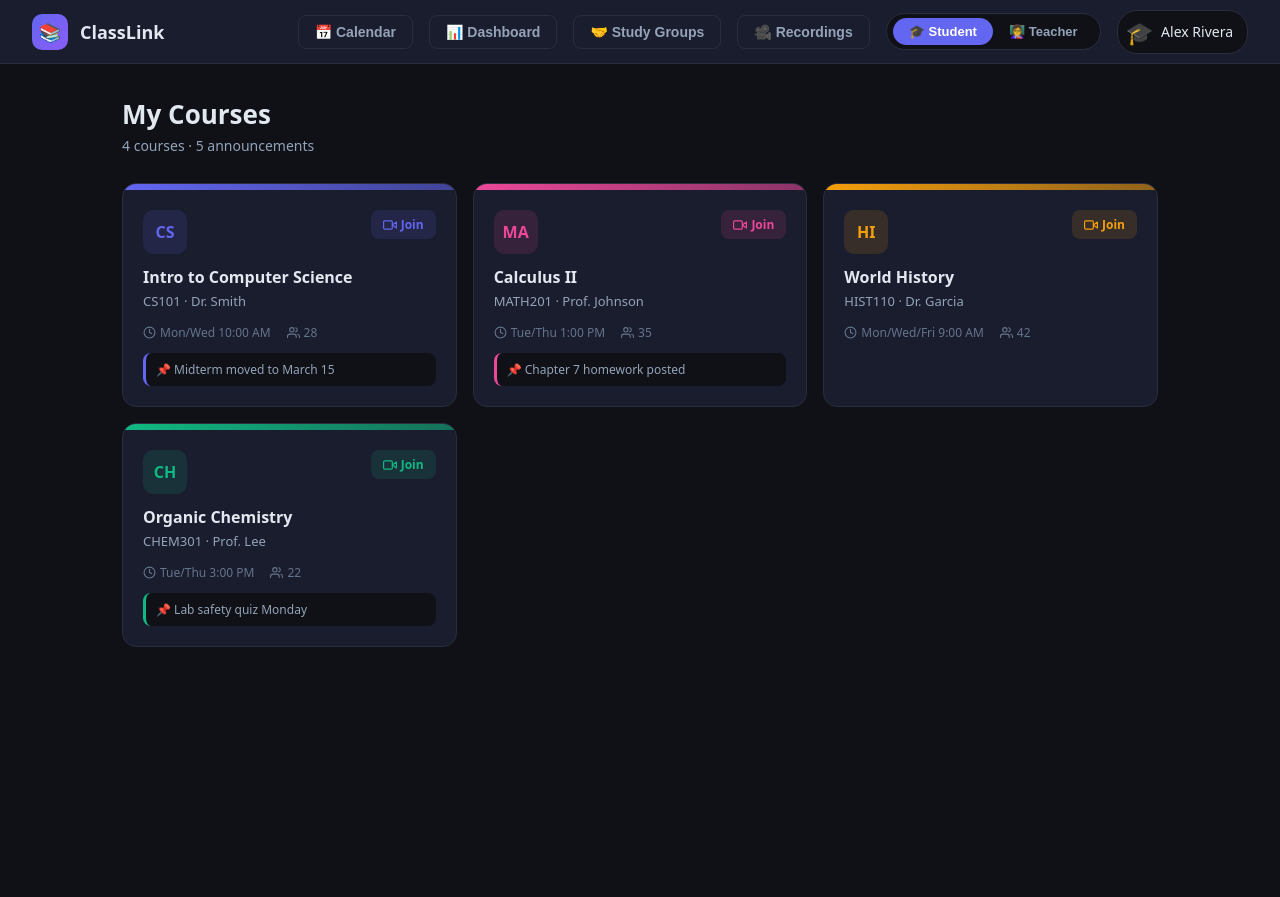
Test: App component › teacher can switch role and add a new course
# Switch to teacher role
Click the button "👩‍🏫 Teacher" at (1043, 32), box [993,18,1094,45]
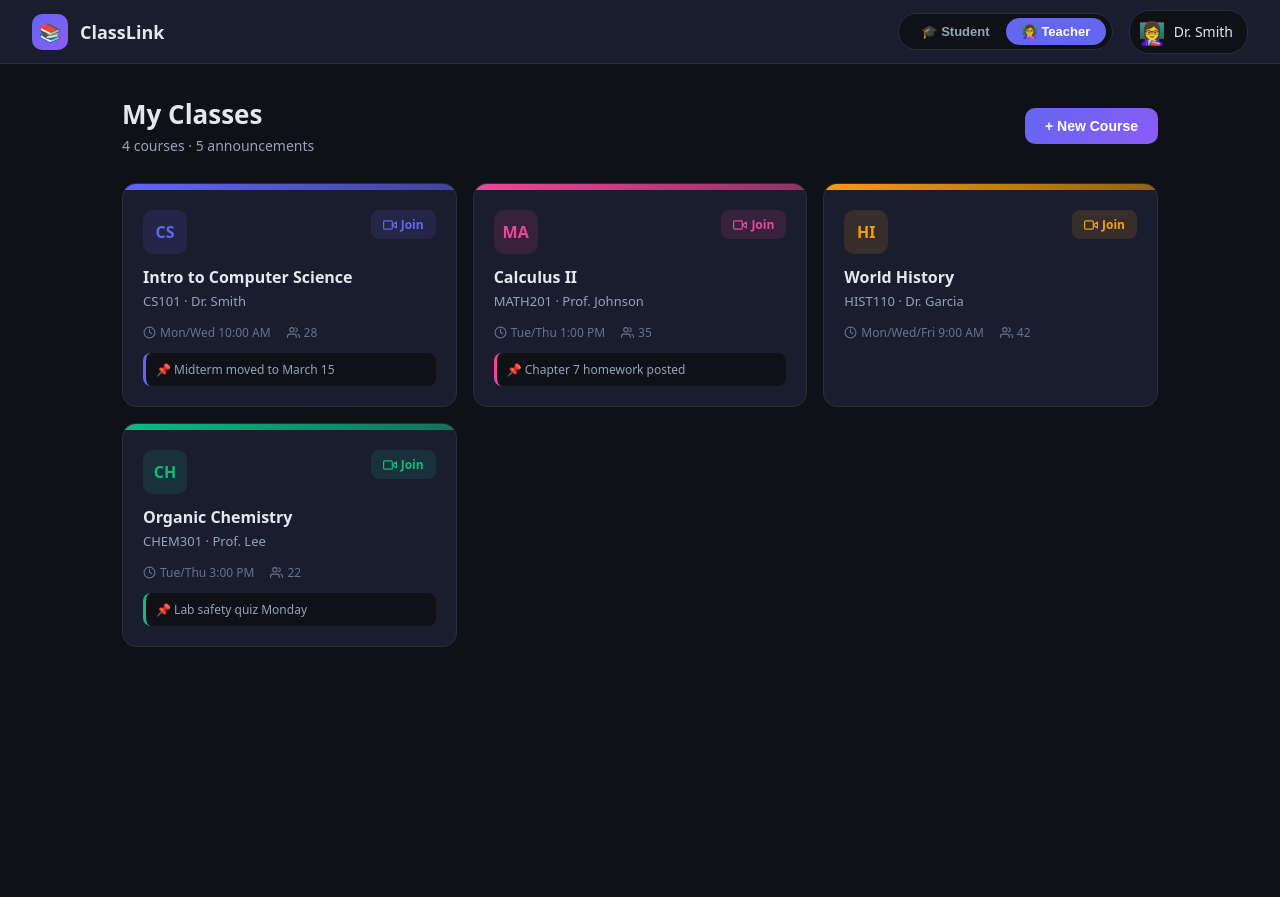
Expected: the text "4 courses · 5 announcements" is shown, [122,136,314,155]
Expected: the heading "My Classes" is shown, [122,96,262,132]
# Open new course form
Click the button "+ New Course" at (1092, 126), box [1025,108,1158,144]
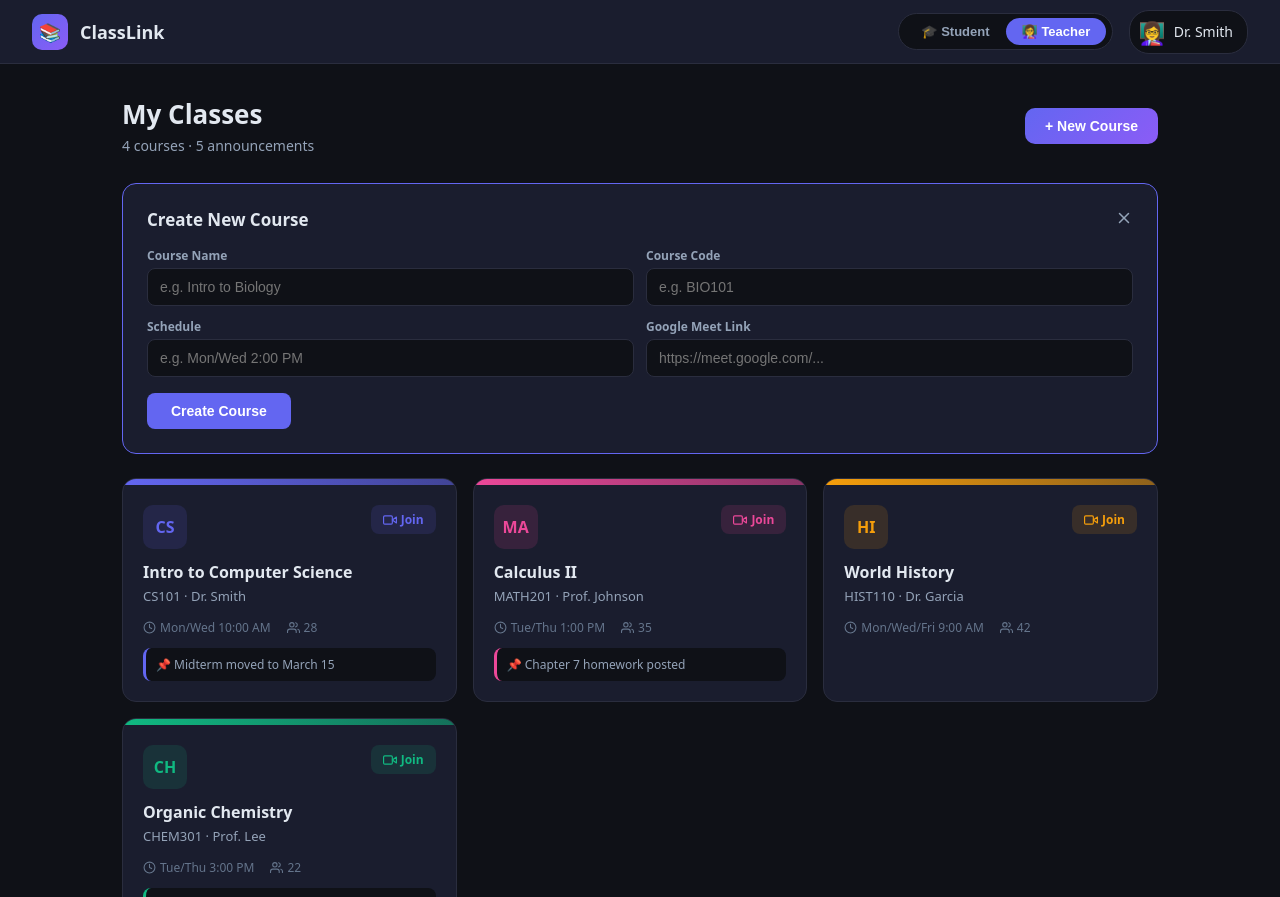
Type "Test Automation" into the field with placeholder "e.g. Intro to Biology" at (390, 287), box [147,268,634,306]
Type "AUTO101" into the field with placeholder "e.g. BIO101" at (890, 287), box [646,268,1133,306]
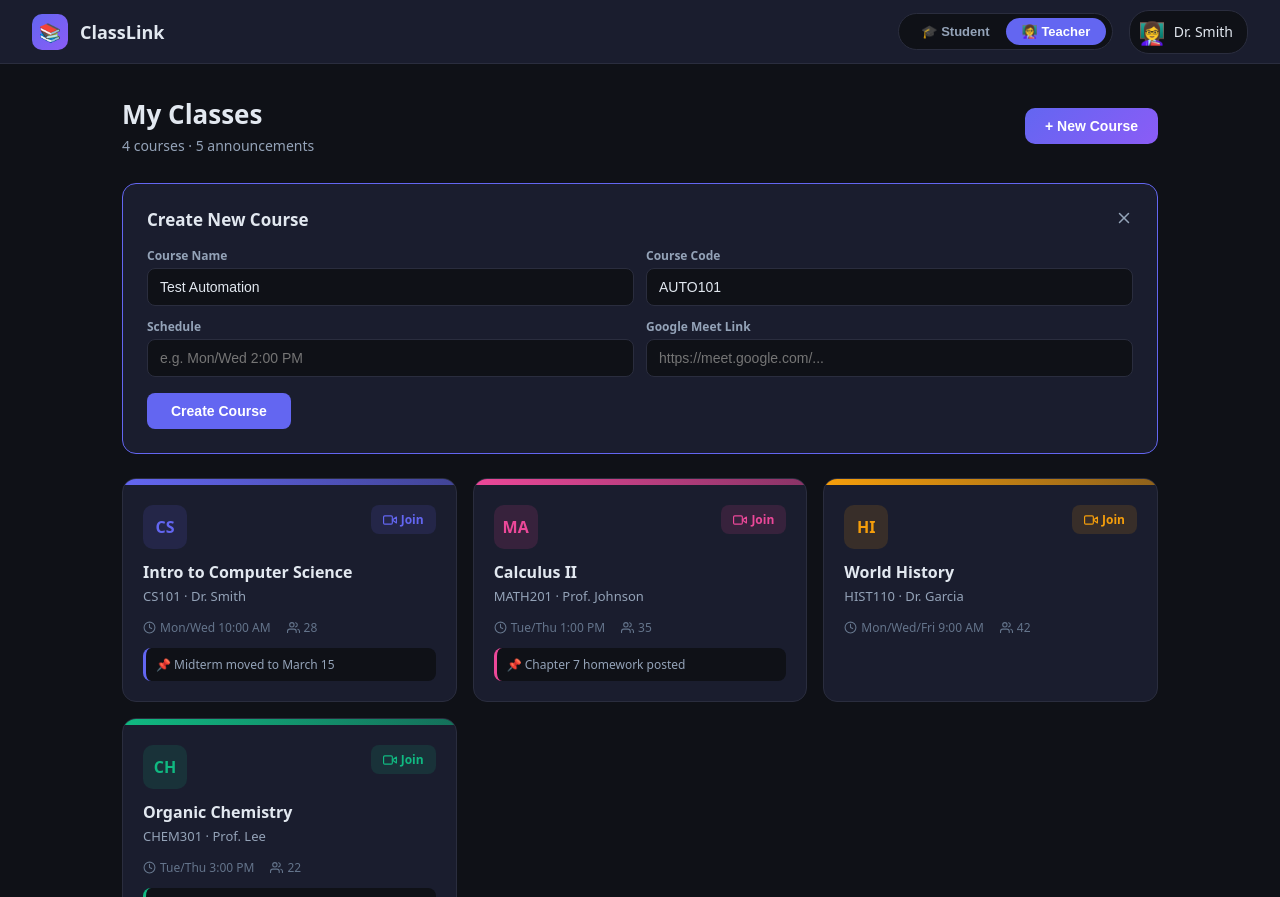
Type "Fri 4:00 PM" into the field with placeholder "e.g. Mon/Wed 2:00 PM" at (390, 358), box [147,339,634,377]
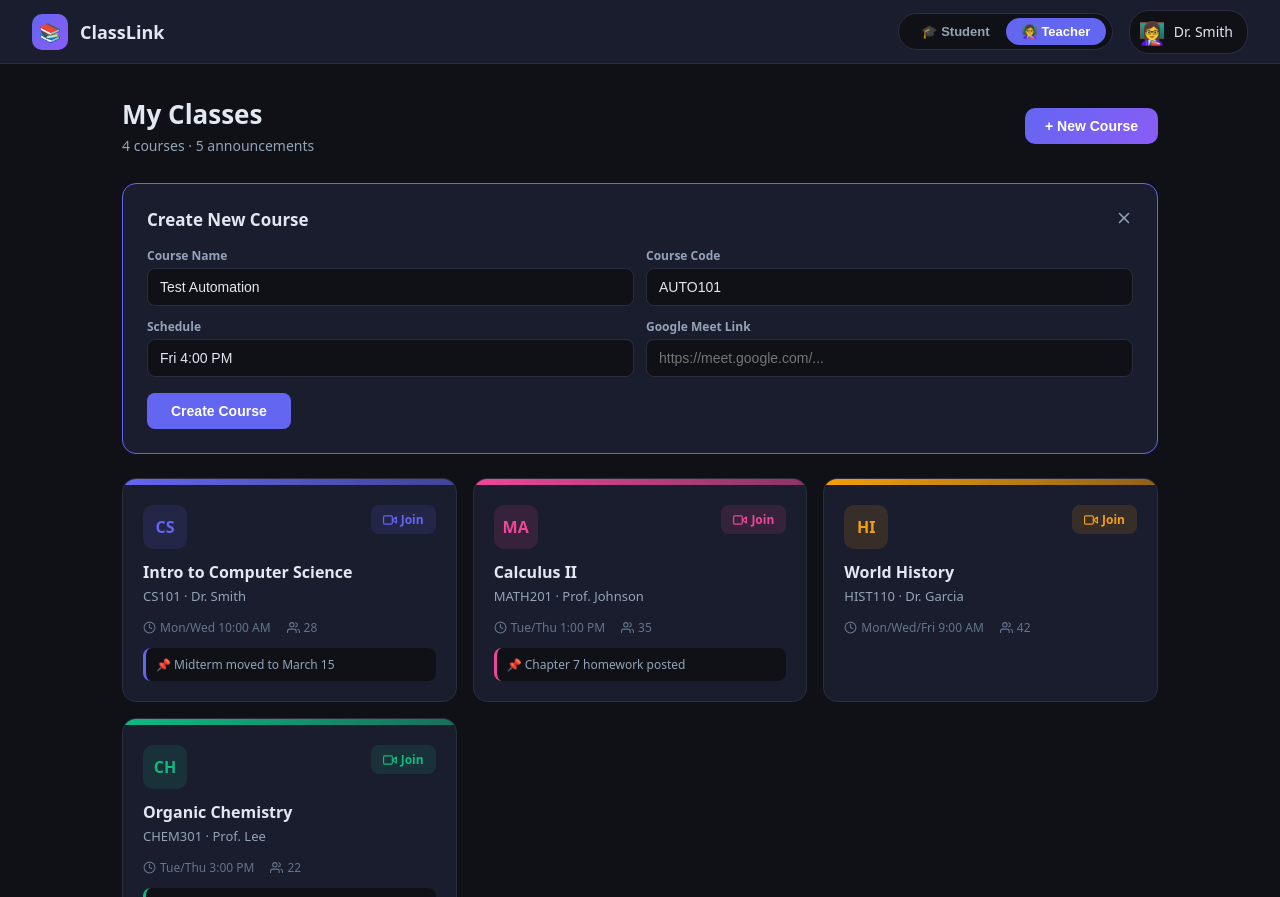
Type "https://meet.google.com/test-123" into the field with placeholder "https://meet.google.com/..." at (890, 358), box [646,339,1133,377]
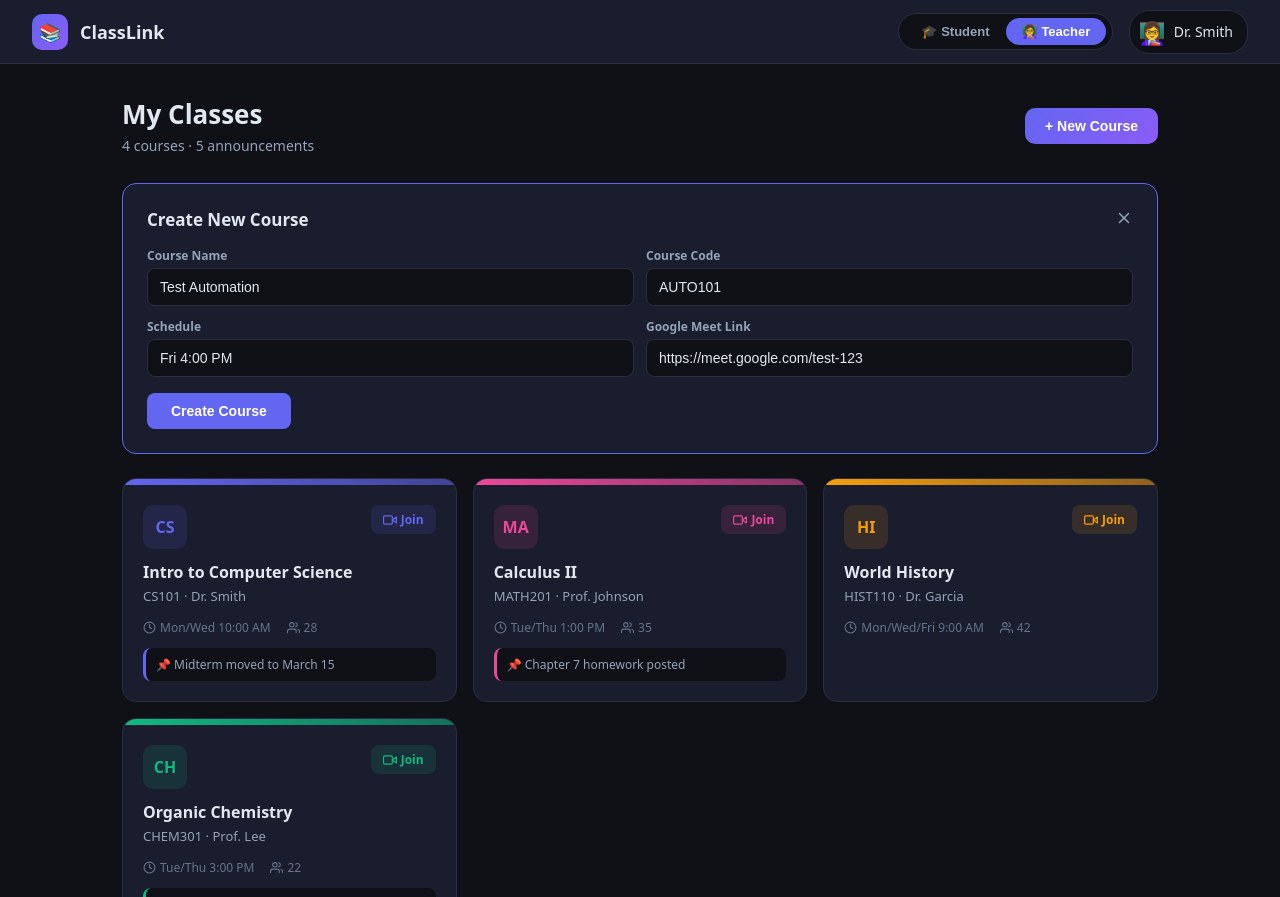
Click the button "Create Course" at (219, 411), box [147,393,291,429]
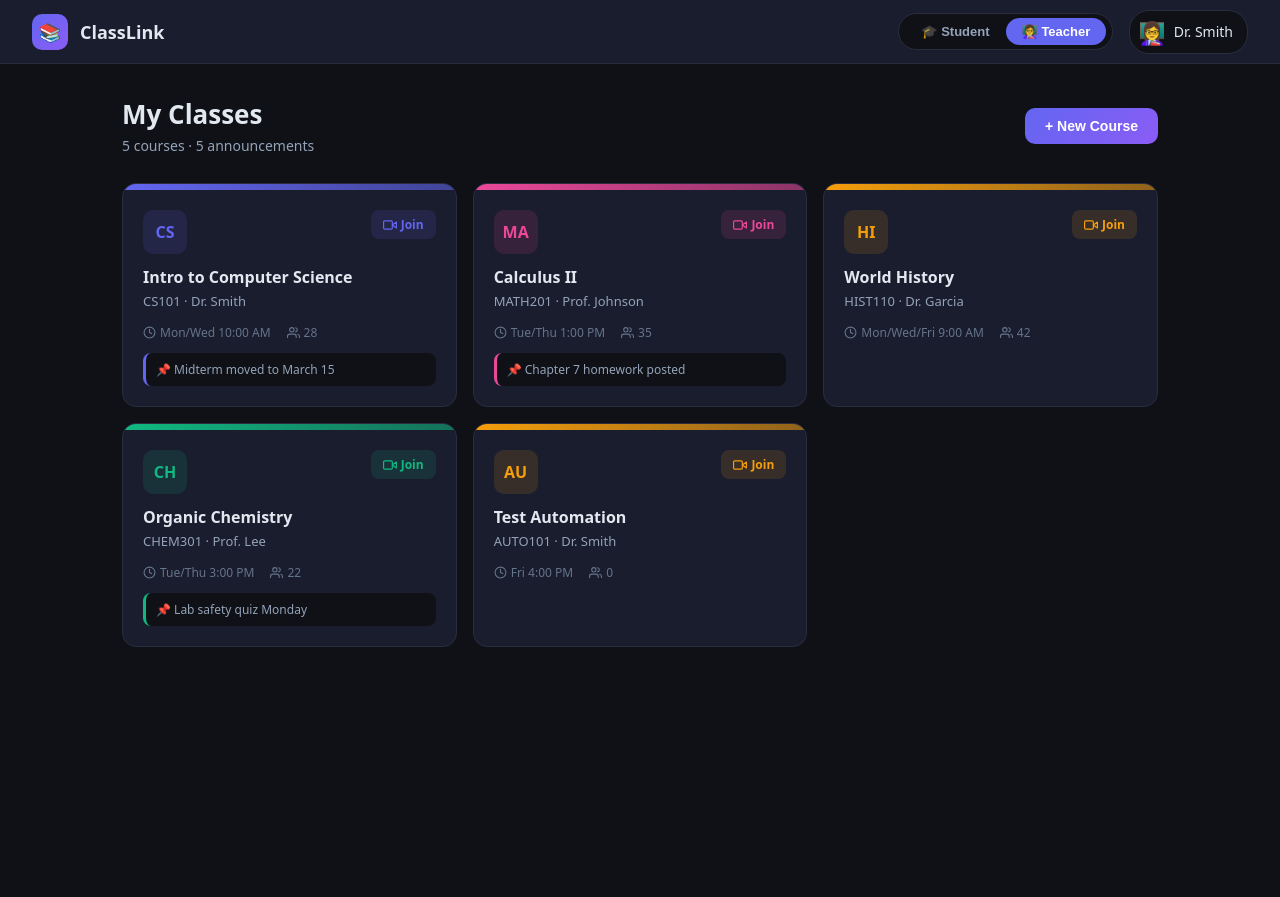
Expected: the text "5 courses · 5 announcements" is shown, [122,136,314,155]
Expected: the heading "Test Automation" is shown, [494,506,626,528]
